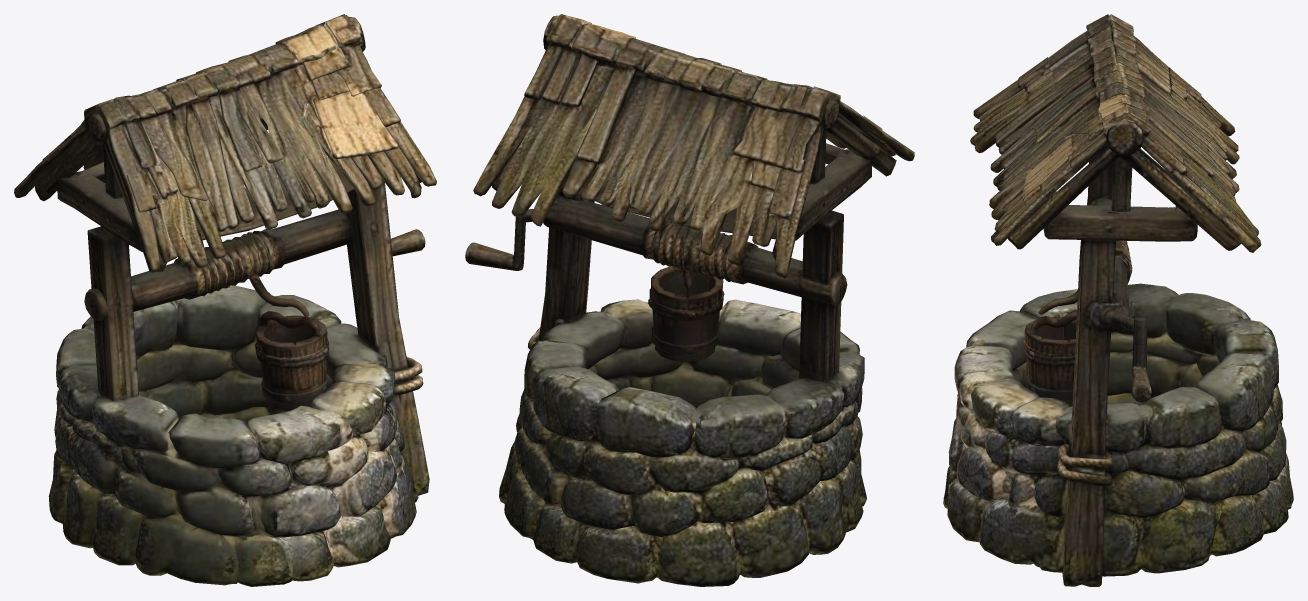
The model's file is act1-a01-5-village-well.glb.
3 renders of one model, left to right at view 1: azimuth 30°, elevation 25°; view 2: azimuth 150°, elevation 25°; view 3: azimuth 270°, elevation 25°, orthographic. The views are drawn at different scales.
Parts seen in each view (by area): view 1: act1-a01-5-village-well; view 2: act1-a01-5-village-well; view 3: act1-a01-5-village-well.
Boxes of the visible parts, box(x1,y1,x2,y2) form: act1-a01-5-village-well: box(14, 14, 436, 586); act1-a01-5-village-well: box(465, 14, 914, 586); act1-a01-5-village-well: box(943, 14, 1293, 586).
Size of the model in its own units: 2.73 by 3.4 by 2.39.
1 material, 1 textured.
